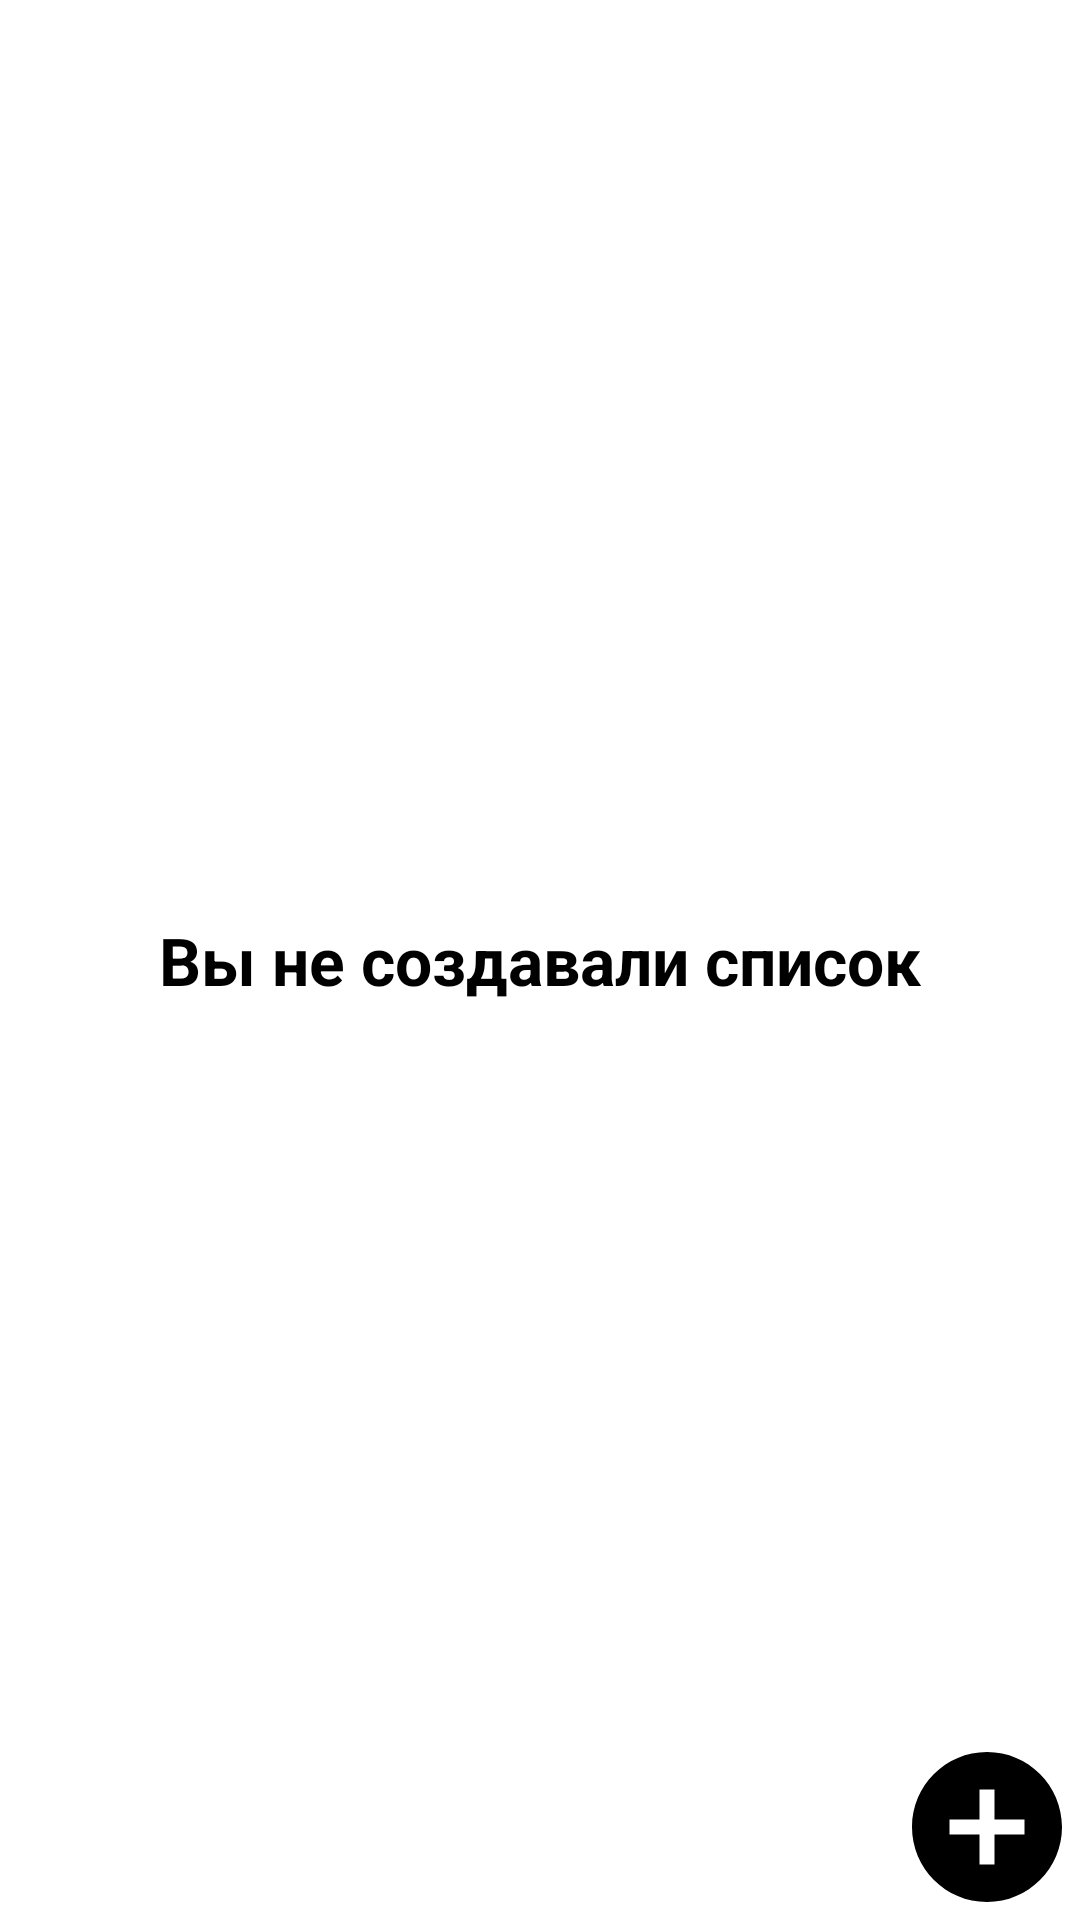

Icons on this 1080x1920 Android screen, each with its box as (x1, y1, x2, y2):
add circle: (912, 1752, 1062, 1902)
